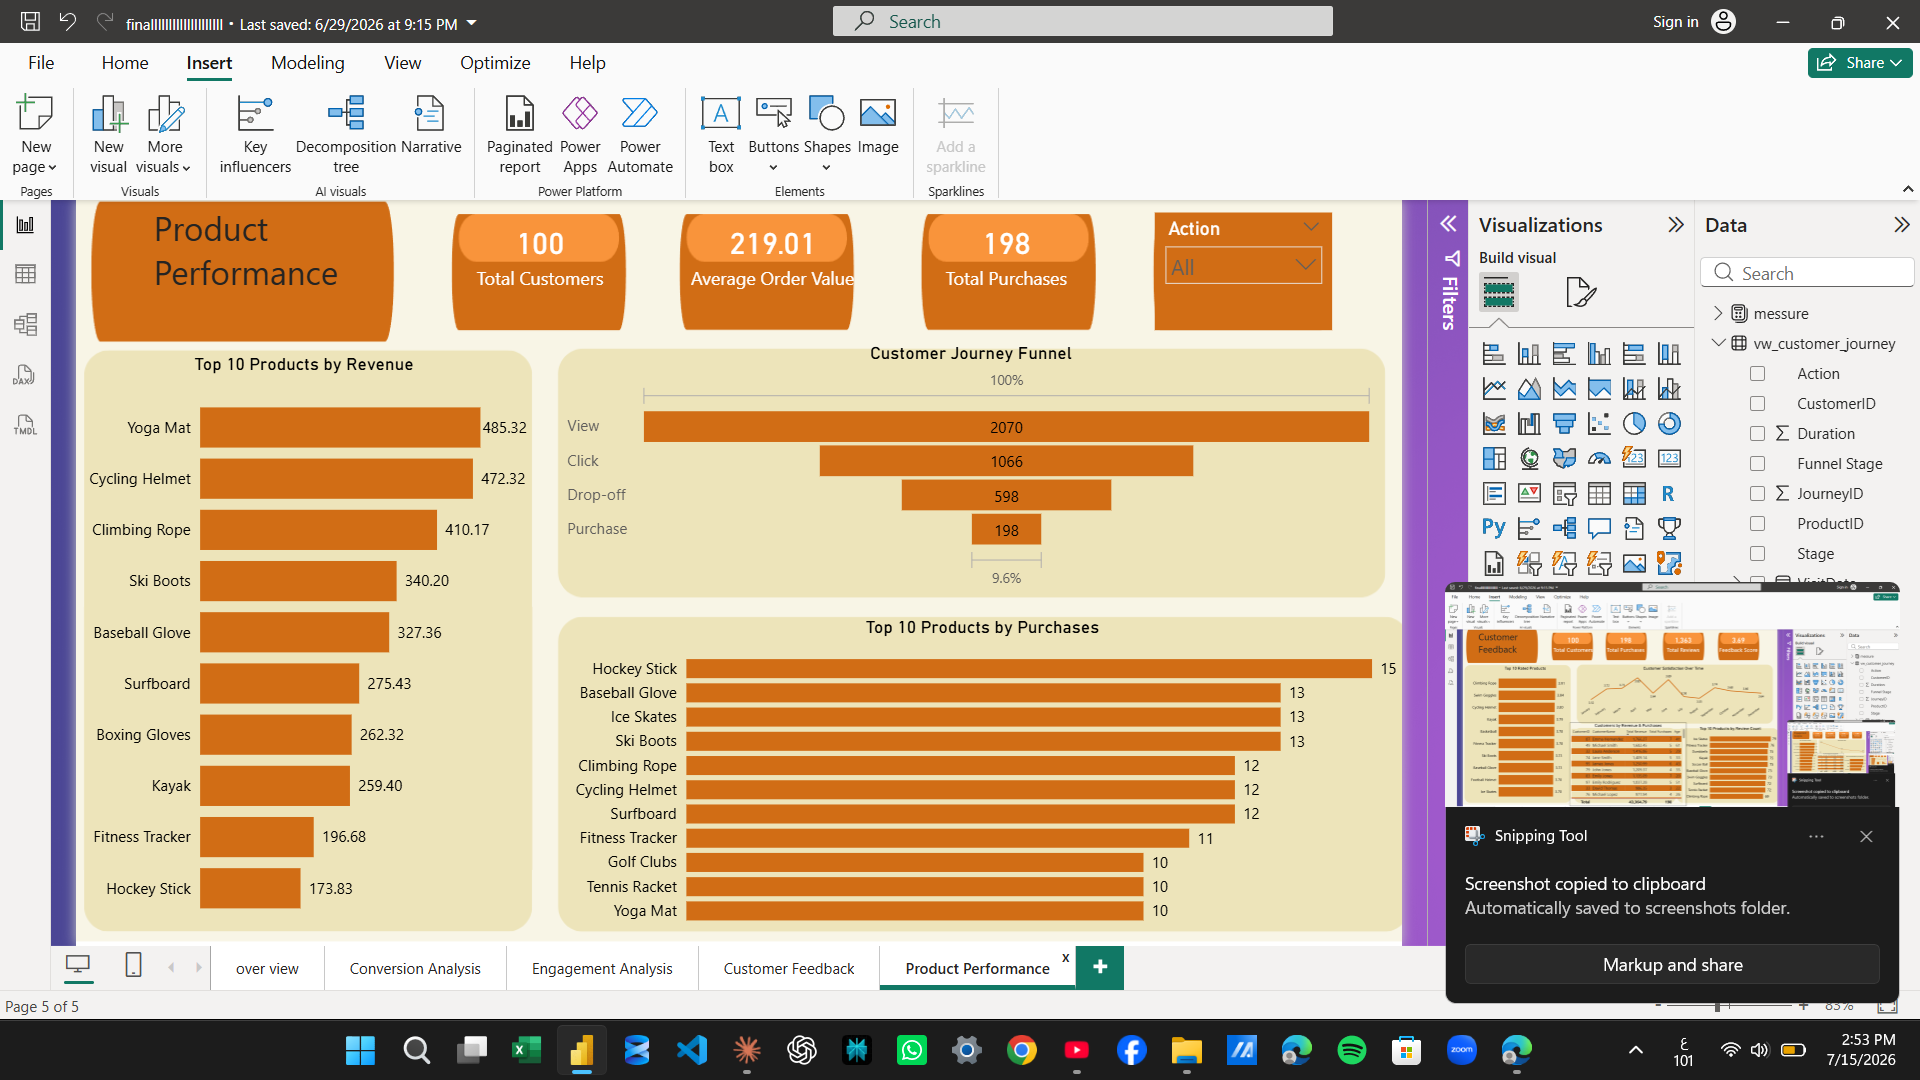

Layout of this report page (visuals, bound fields, positions):
{"tool":"powerbi","page":{"name":"Product Performance","canvas":[1280,720],"ordinal":4},"visuals":[{"type":"card","fields":{"Values":["messure.AOV"]},"box":[565.8,0,213.5,102.5],"z":0},{"type":"card","fields":{"Values":["messure.Total Purchases"]},"box":[809.9,0,177.5,102.8],"z":2000},{"type":"card","fields":{"Values":["messure.Total Customers"]},"box":[361.9,0,172.5,102.5],"z":3000},{"type":"barChart","title":"Top 10 Products by Revenue","fields":{"Category":["vw_products.ProductName"],"Y":["Sum(vw_products.Price)"]},"box":[0,148.4,440.4,561],"z":4000},{"type":"barChart","title":"Top 10 Products by Purchases","fields":{"Category":["vw_products.ProductName"],"Y":["messure.Total Purchases"]},"box":[469,401.4,811.3,308.5],"z":5000},{"type":"textbox","box":[29.6,0,277.5,138],"z":6000},{"type":"funnel","title":"Customer Journey Funnel","fields":{"Category":["vw_customer_journey.Action"],"Y":["CountNonNull(vw_customer_journey.CustomerID)"]},"box":[469.3,137.5,789,242.5],"z":7000},{"type":"slicer","fields":{"Values":["vw_customer_journey.Action"]},"box":[1041.2,12.1,171.3,113.4],"z":8000}]}

Visuals, with their boxes on the page's 1280x720 design canvas (x1, y1, x2, y2). These are canvas units, not pixel positions in the 1920x1080 screenshot, which may show the page scaled, cropped or inside an application window:
card - messure.AOV: {"left": 566, "top": 0, "right": 779, "bottom": 102}
card - messure.Total Purchases: {"left": 810, "top": 0, "right": 987, "bottom": 103}
card - messure.Total Customers: {"left": 362, "top": 0, "right": 534, "bottom": 102}
"Top 10 Products by Revenue" barChart: {"left": 0, "top": 148, "right": 440, "bottom": 709}
"Top 10 Products by Purchases" barChart: {"left": 469, "top": 401, "right": 1280, "bottom": 710}
textbox: {"left": 30, "top": 0, "right": 307, "bottom": 138}
"Customer Journey Funnel" funnel: {"left": 469, "top": 138, "right": 1258, "bottom": 380}
slicer - vw_customer_journey.Action: {"left": 1041, "top": 12, "right": 1212, "bottom": 126}
